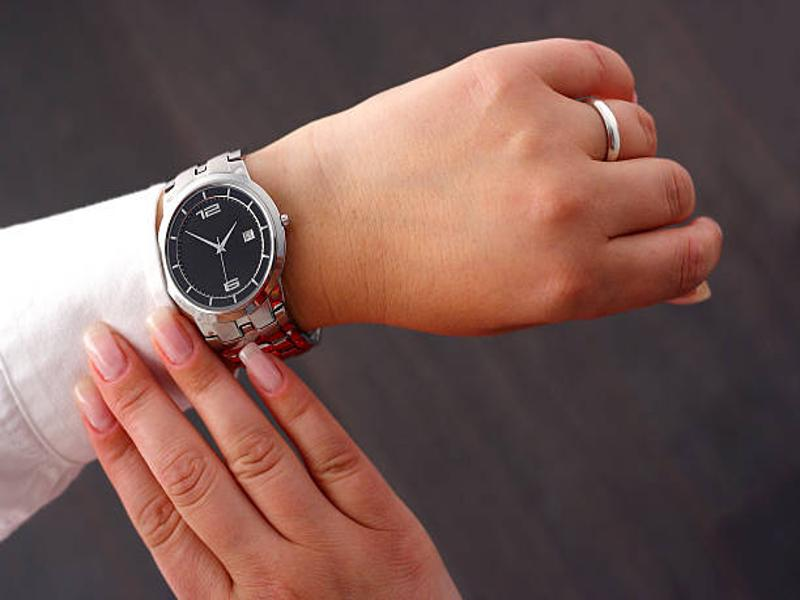watch: (156, 145, 322, 364)
